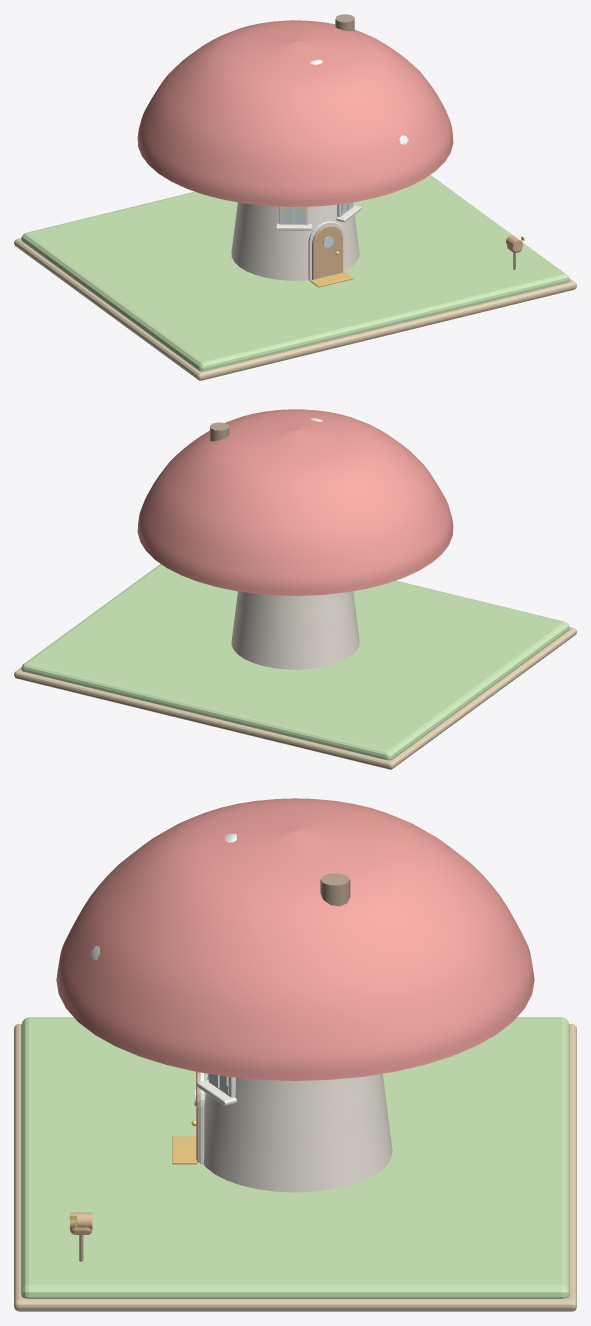
The model's file is building_forest_L06.glb.
The picture shows the model from 3 angles, top to bottom: view 1: azimuth 30°, elevation 25°; view 2: azimuth 150°, elevation 25°; view 3: azimuth 270°, elevation 25°; orthographic projection. The views are drawn at different scales.
Parts seen in each view (by area): view 1: forest_L6; view 2: forest_L6; view 3: forest_L6.
Part boxes in pixels (box(x1,y1,x2,y2)): forest_L6: box(14, 14, 576, 380); forest_L6: box(14, 409, 576, 769); forest_L6: box(14, 798, 576, 1311).
Bounding box in the file's own units: 26.61 × 15.17 × 22.6.
